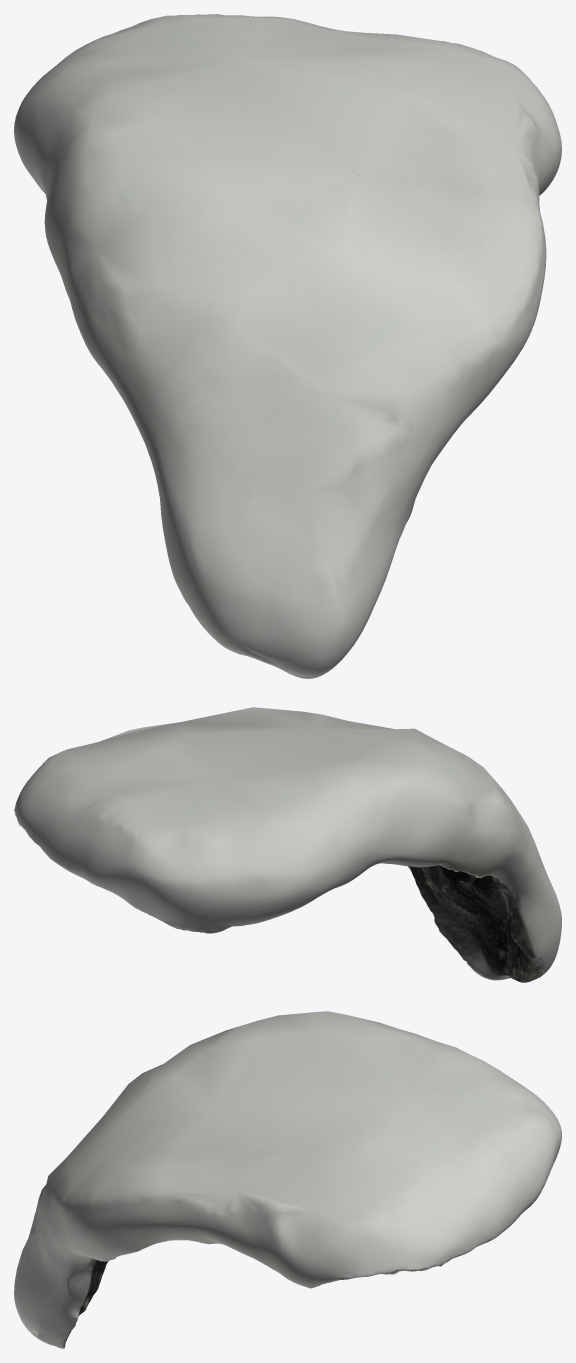
3 renders of one model, top to bottom at view 1: azimuth 30°, elevation 25°; view 2: azimuth 150°, elevation 25°; view 3: azimuth 270°, elevation 25°, orthographic. The views are drawn at different scales.
Bounding box in the file's own units: 0.1001 × 0.0736 × 0.1136.
Materials: 1 (1 with a texture image).
